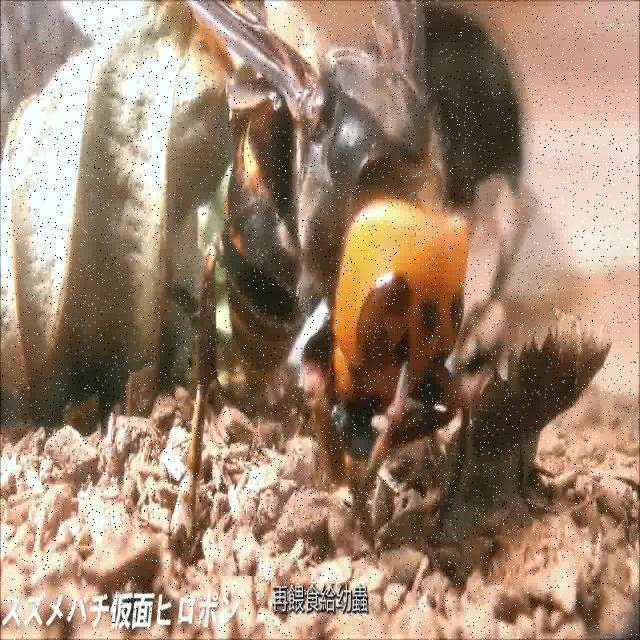Wasp: (180, 2, 498, 503)
